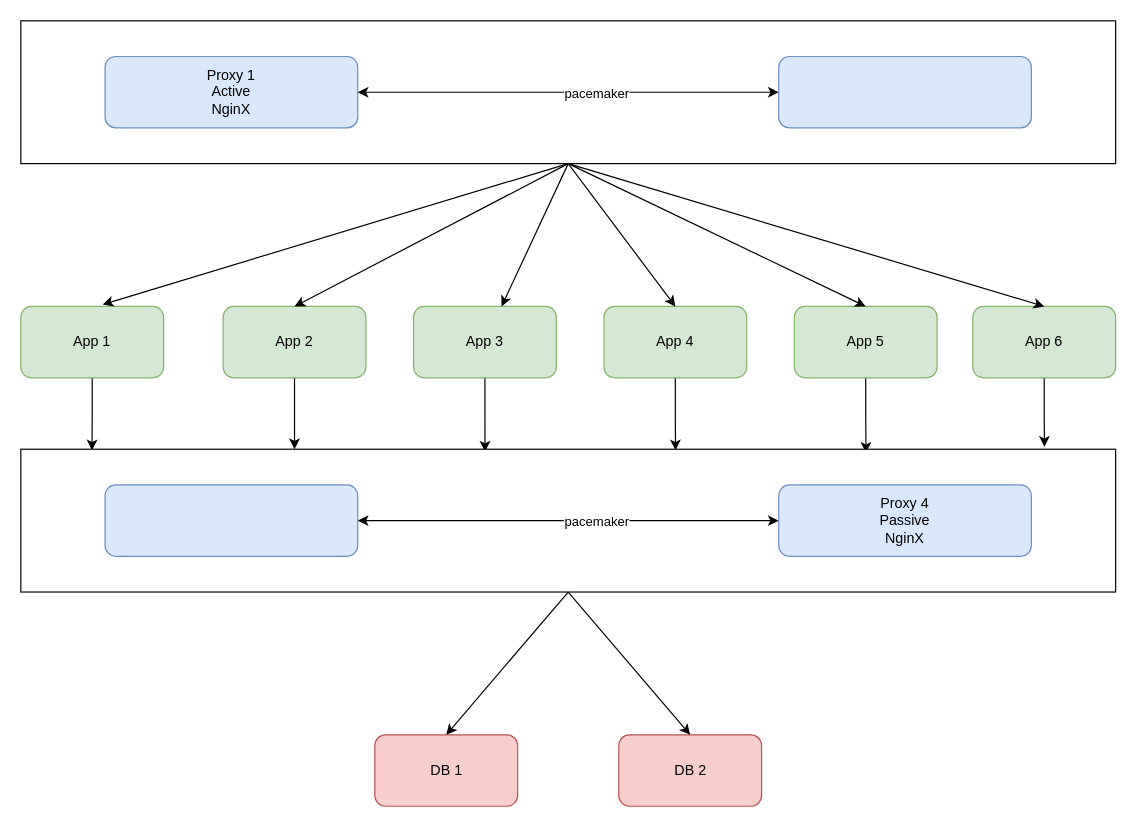
The diagram is 1136 pixels wide and 827 high, and some of its shapes have lost their labels. The shapes that lost their labels are listed below. From the top down, each one's centre as x and y in pixels, then its label:
At point 904,91: "Proxy 2 Passive NginX".
At point 231,520: "Proxy 3 Active NginX".
